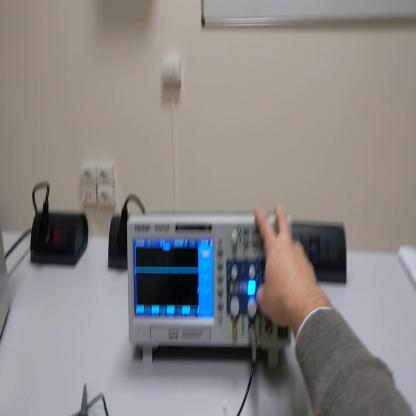hand: (253, 204, 319, 327)
oscilloscope: (127, 219, 292, 374)
oscilloscope probe tip: (81, 386, 91, 416)
power supply: (1, 227, 13, 351)
socket: (31, 215, 89, 269), (109, 213, 128, 271)
